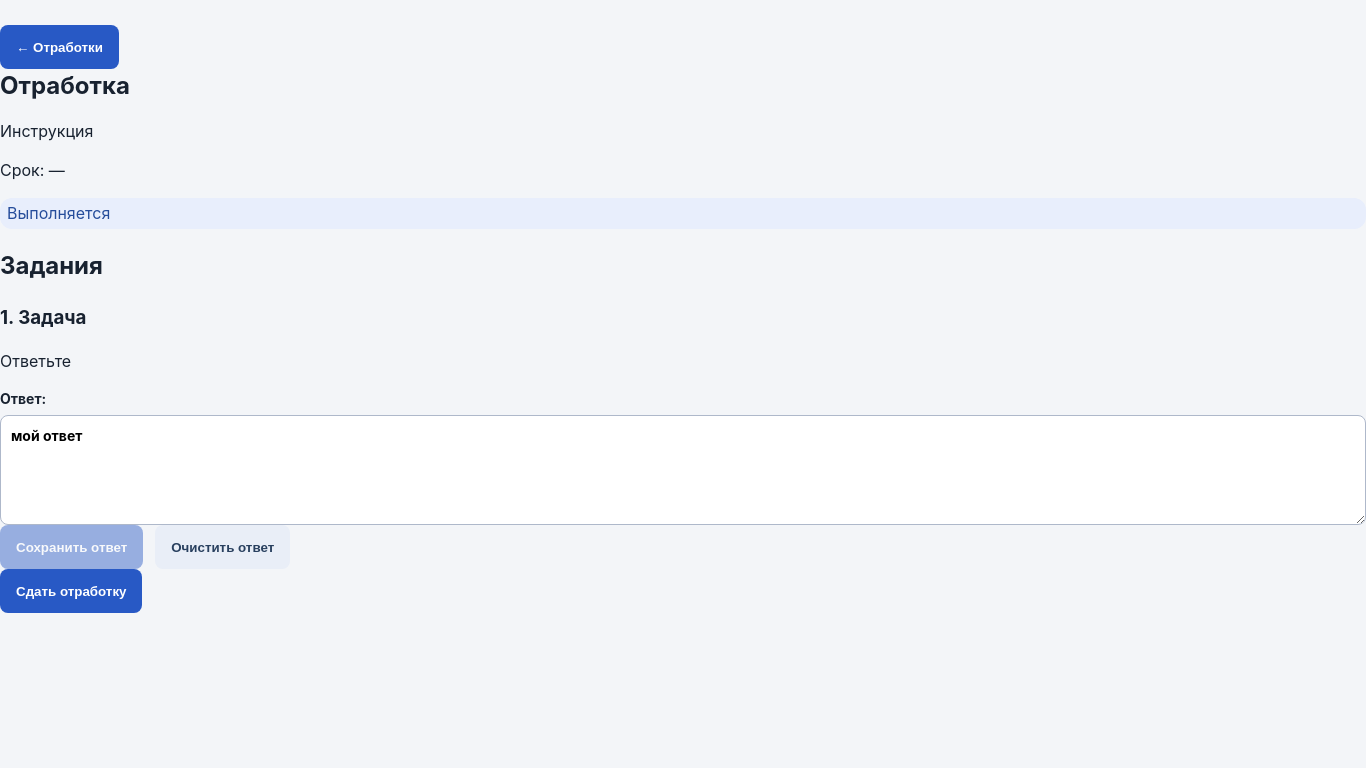
Test: StudentRemediationDetailPage C9 execution › reports an ambiguous submit that remains in progress
The image size is (1366, 768).
Click the button "Сдать отработку" at (71, 591), box [0,569,142,613]
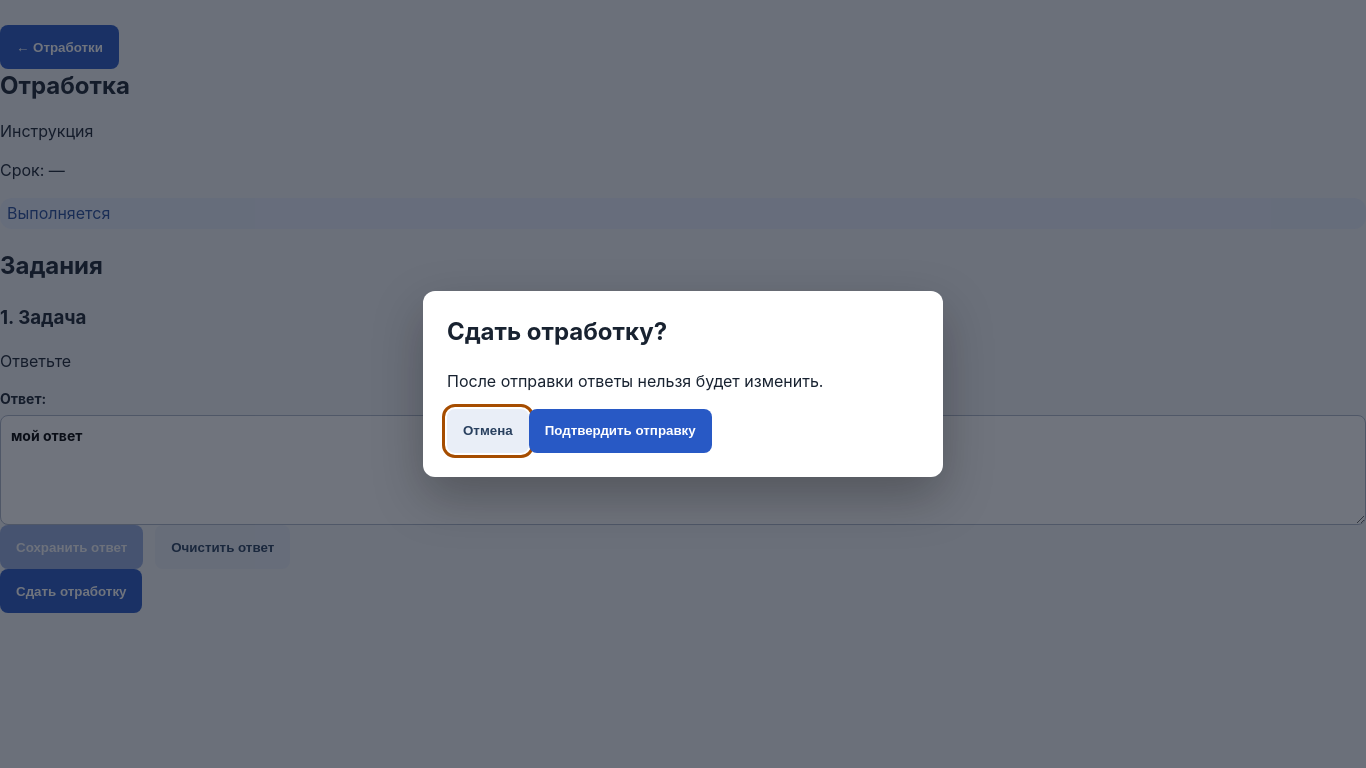
Click the button "Подтвердить отправку" at (620, 431), box [529,409,712,453]
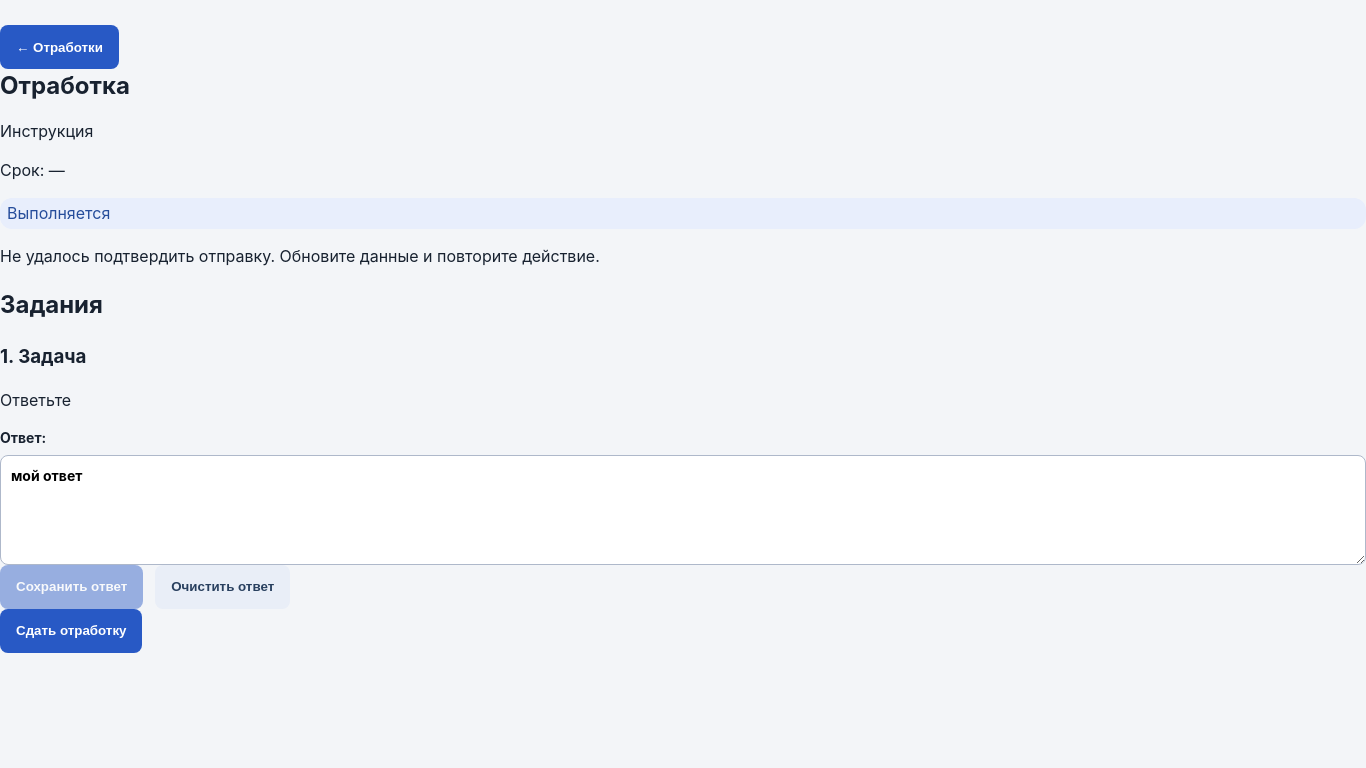
Now the text "Не удалось подтвердить отправку. Обновите данные и повторите действие." is shown, box [0,246,600,266]
